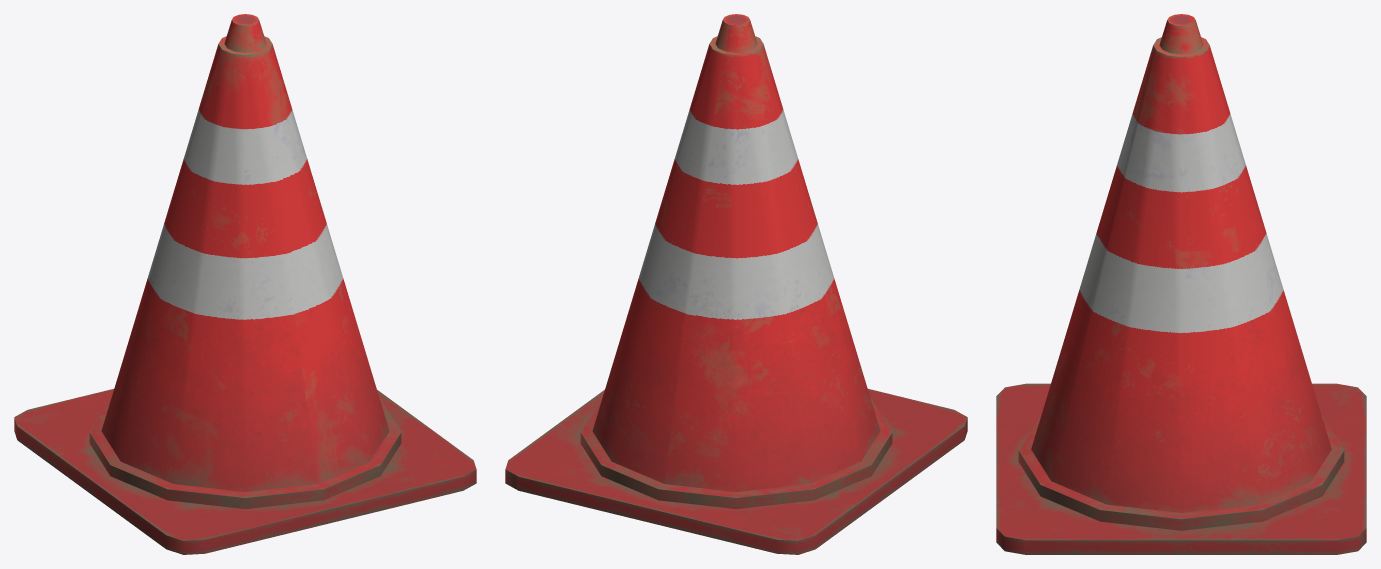
The model's file is traffic_cone.glb.
3 views of the same model, side by side, from view 1: azimuth 30°, elevation 25°; view 2: azimuth 150°, elevation 25°; view 3: azimuth 270°, elevation 25° (orthographic). The views are drawn at different scales.
Visible parts, largest first — view 1: traffic_cone_low.001; view 2: traffic_cone_low.001; view 3: traffic_cone_low.001.
Boxes of the visible parts, left/top/right/bottom form: traffic_cone_low.001: left=14, top=14, right=476, bottom=554; traffic_cone_low.001: left=505, top=14, right=967, bottom=554; traffic_cone_low.001: left=996, top=14, right=1366, bottom=554.
Size of the model in its own units: 0.5216 by 0.7093 by 0.5216.
Materials: 1 (1 with a texture image).
